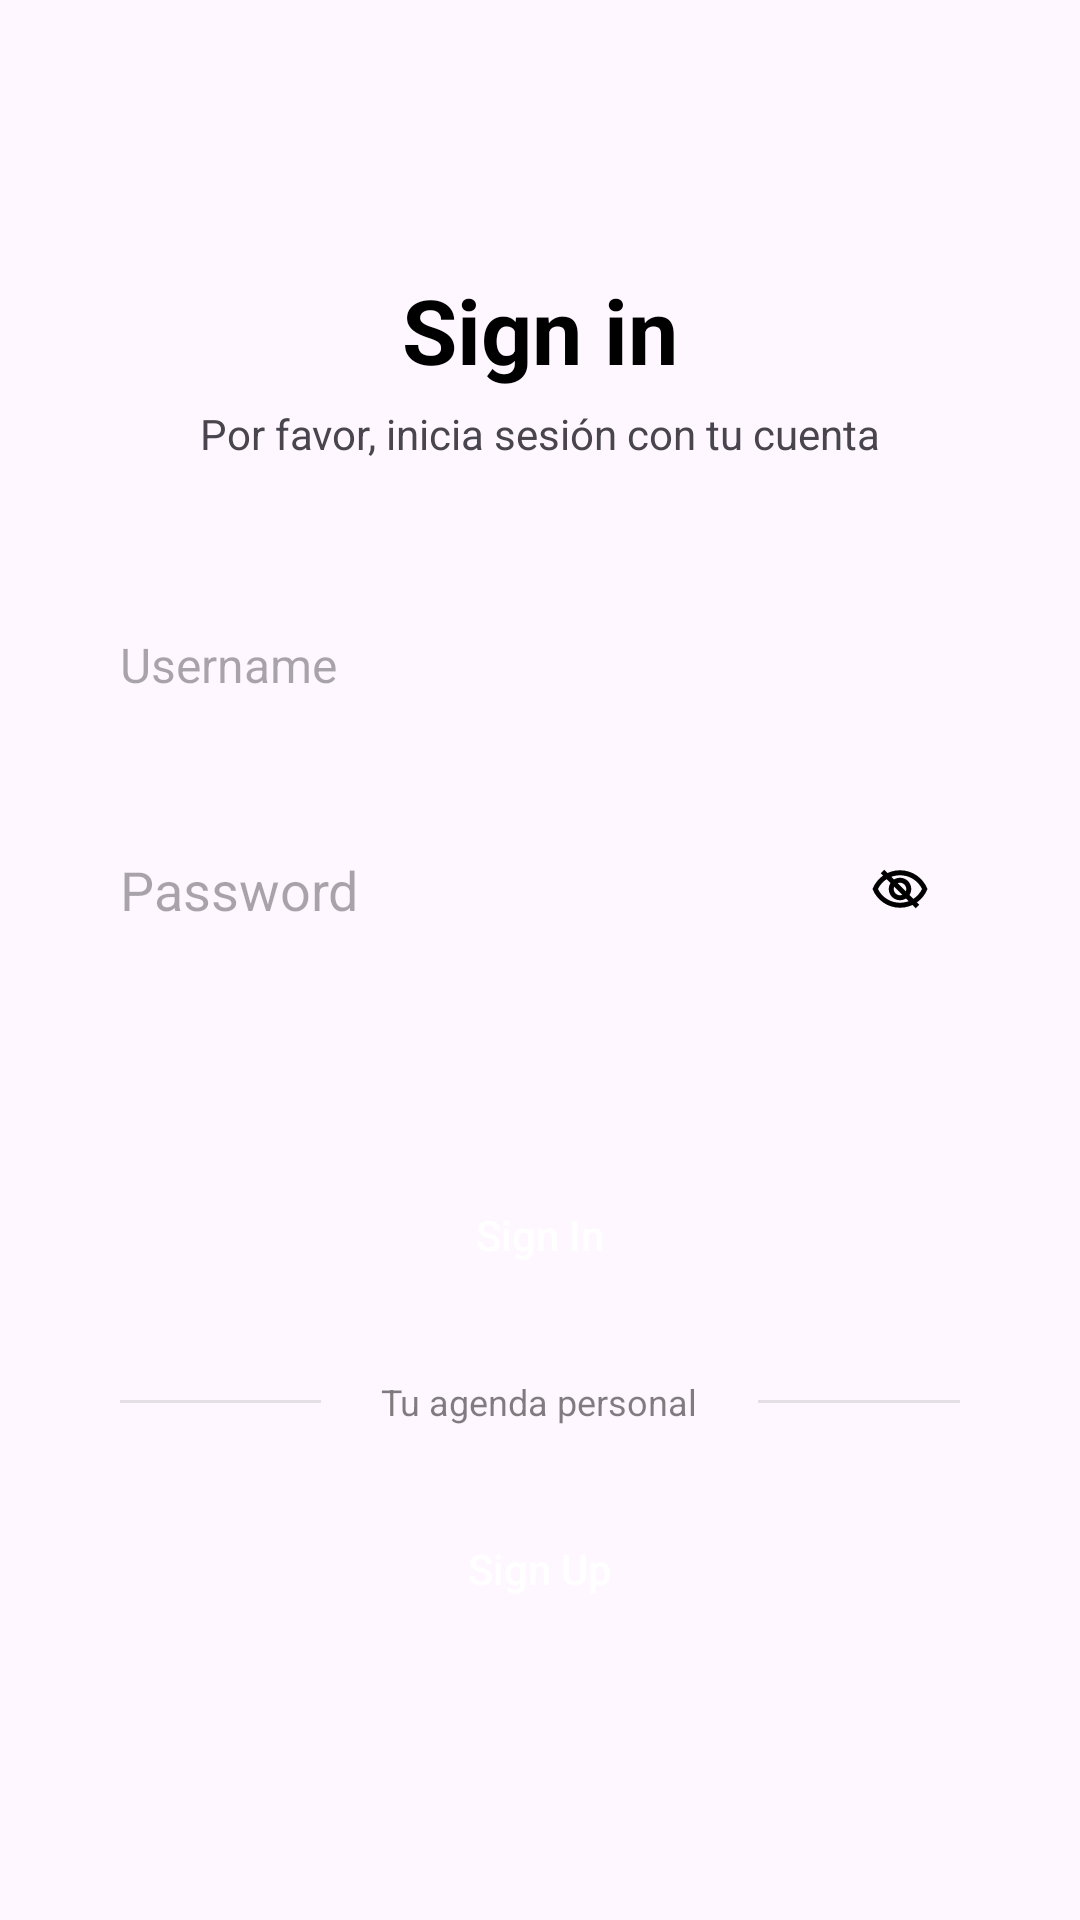

Screen size 1080px x 1920px. Icon name, then its box in pixels as (x1, y1, x2, y2):
hide eye: (872, 870, 928, 908)
